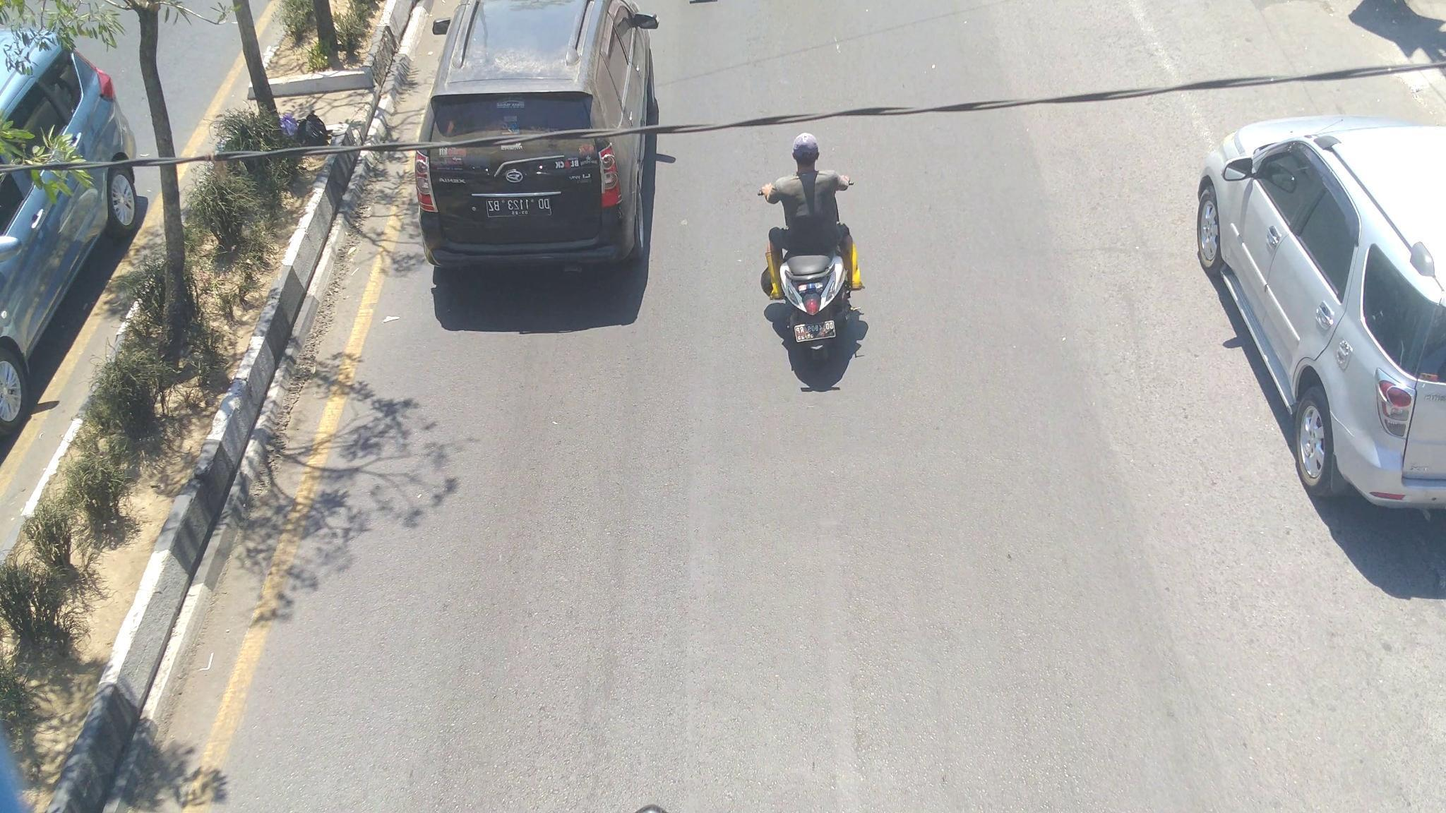bike: (755, 176, 861, 366)
no-helmet: (788, 127, 825, 176)
rider: (760, 131, 867, 300)
